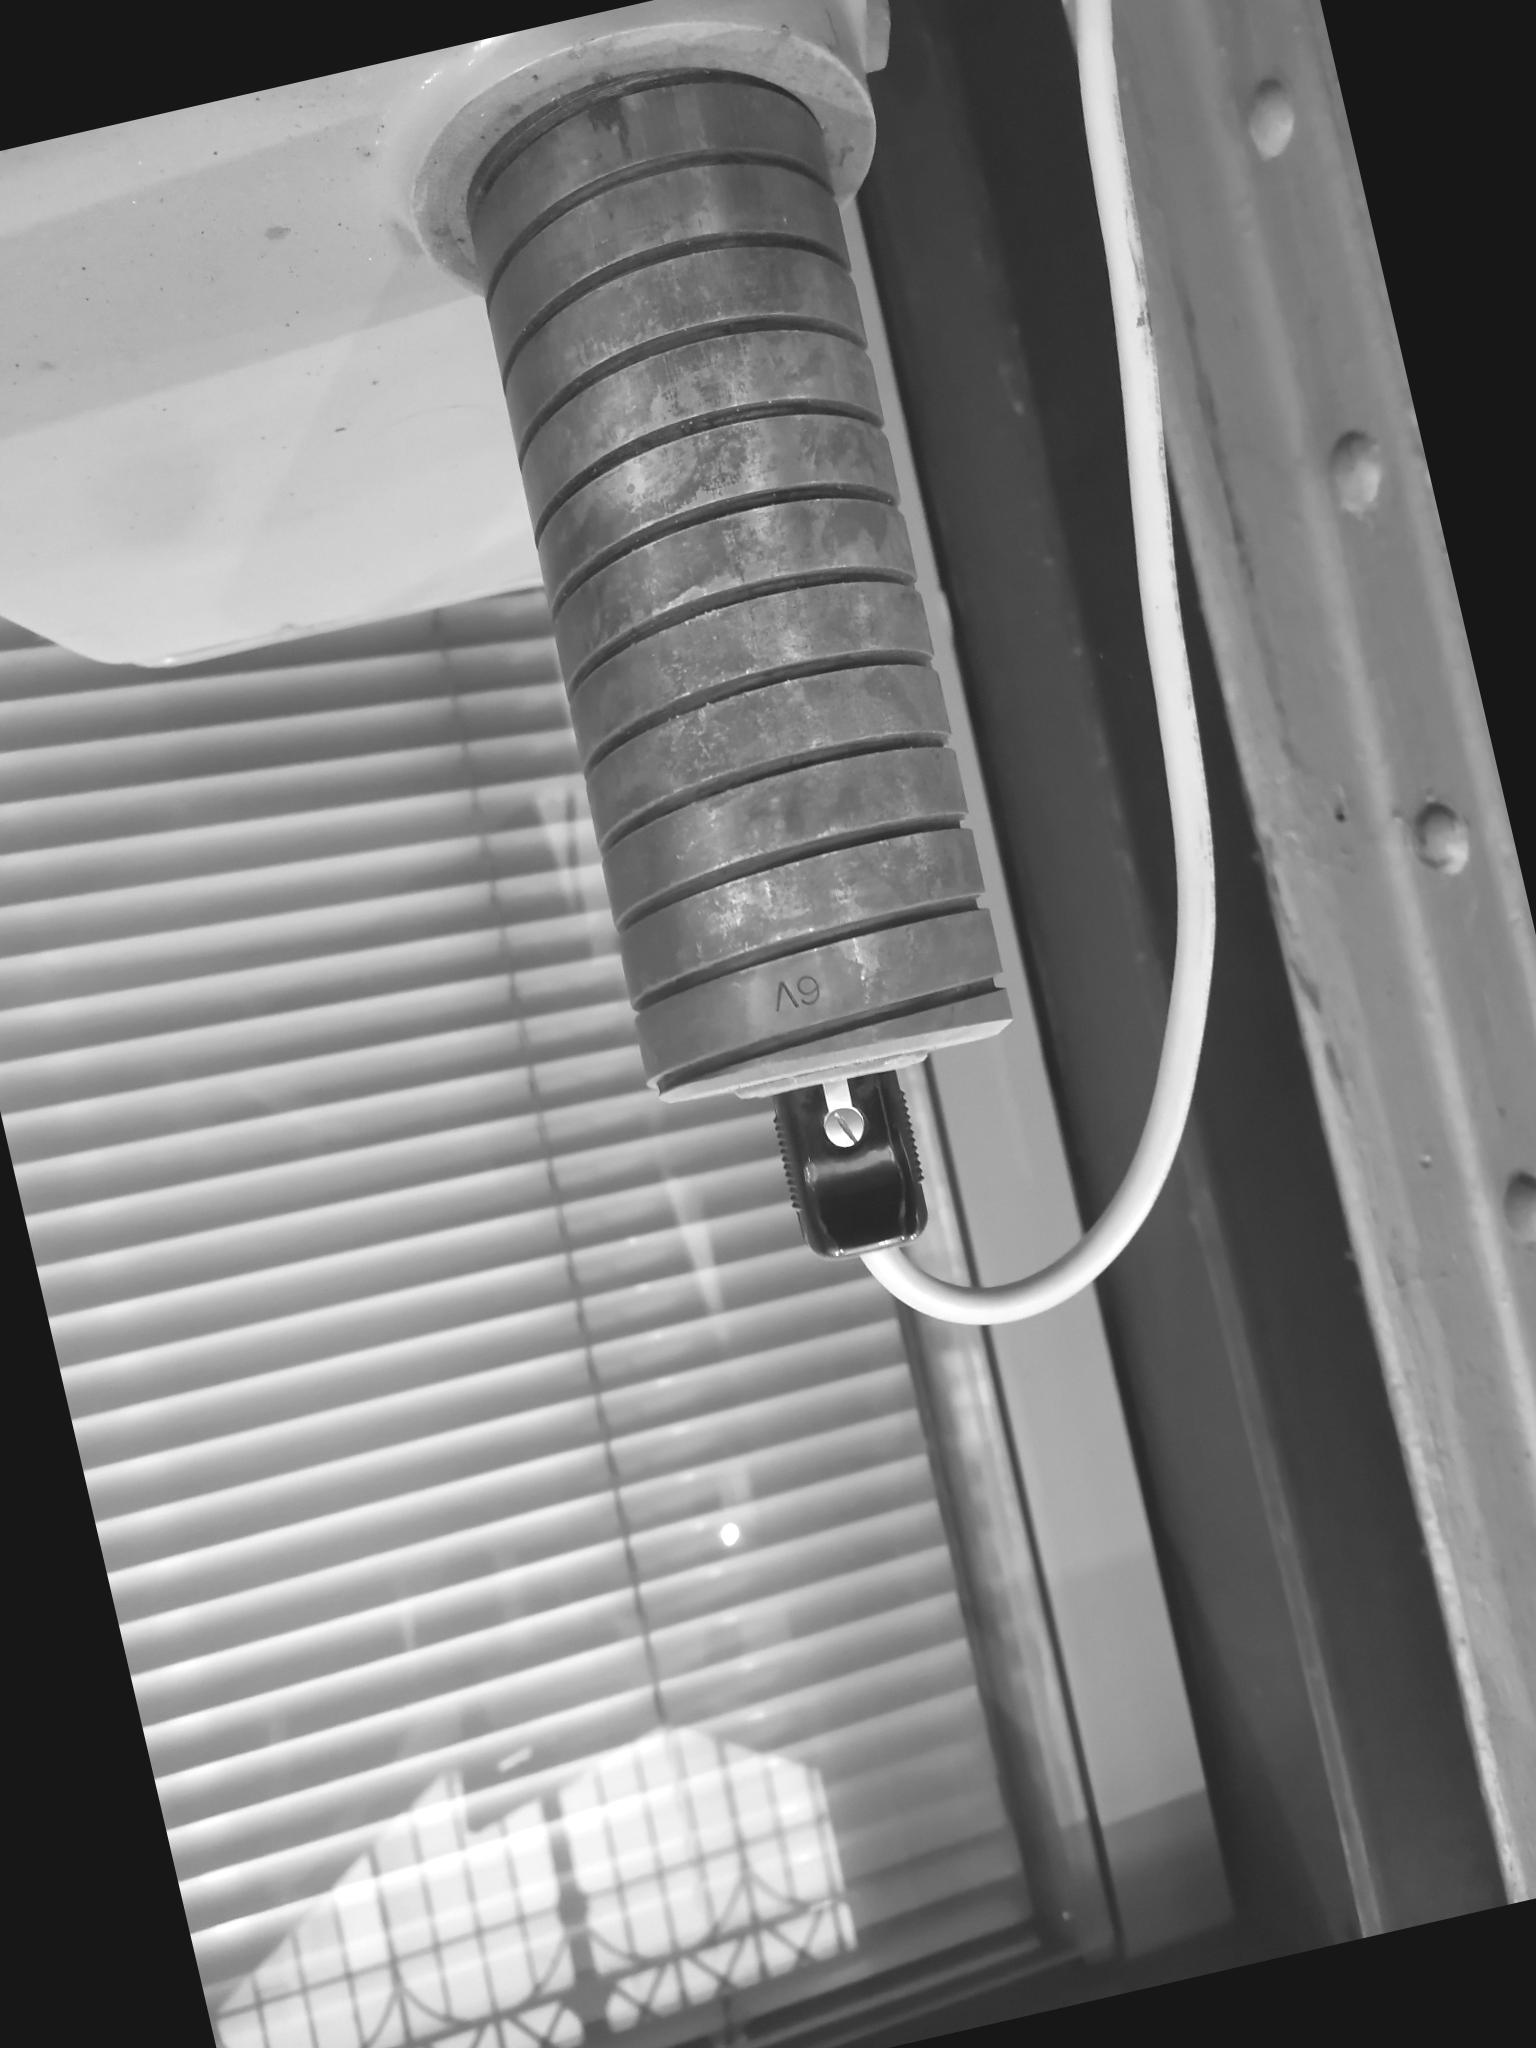screw: (816, 1100, 871, 1151)
